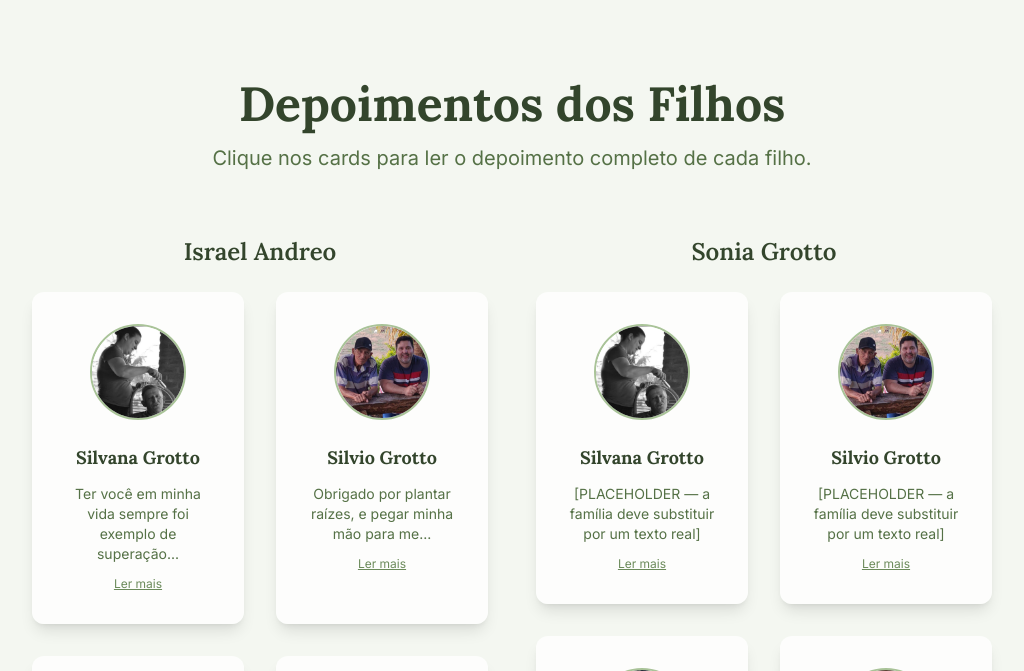
Test case: ChildrenTestimonialsSection › opens the full testimonial in a dialog when a card is clicked
Click the heading "Silvana Grotto" below "Israel Andreo" at (138, 458), box top-left (76, 446), bottom-right (200, 469)
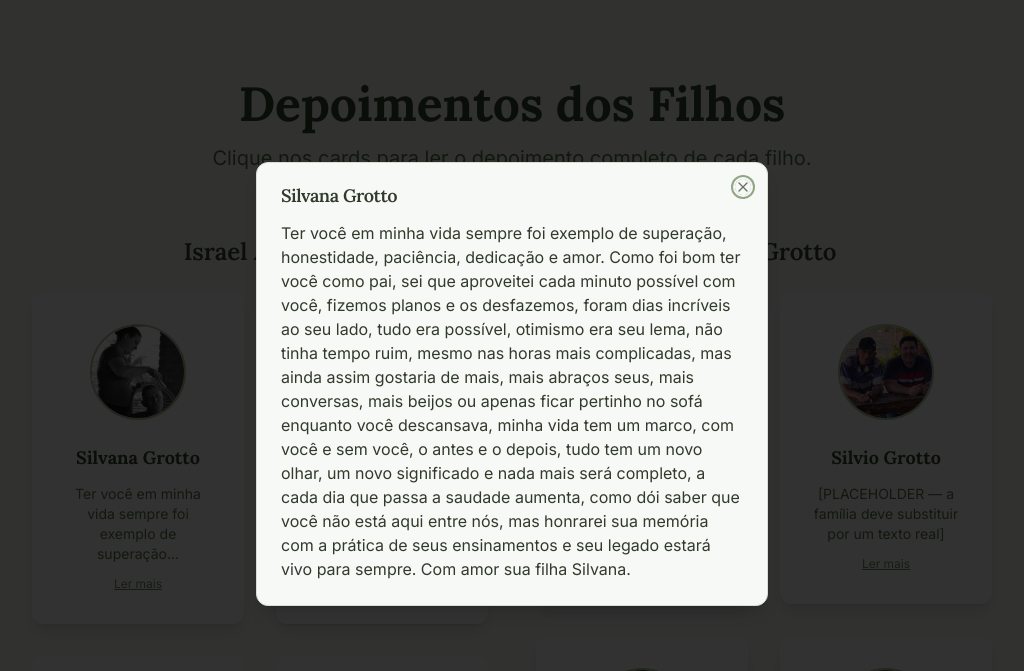
Expected: the text "honrarei sua memória" is shown, top-left (281, 223), bottom-right (740, 579)
